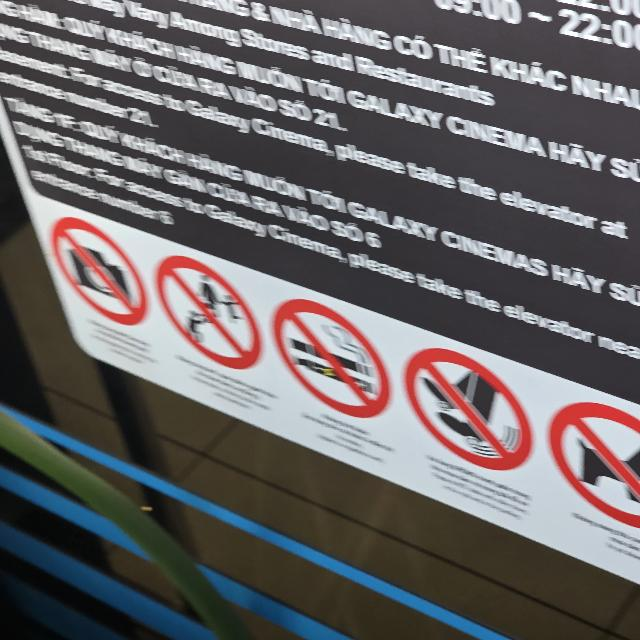cam hut thuoc: (274, 299, 389, 418)
